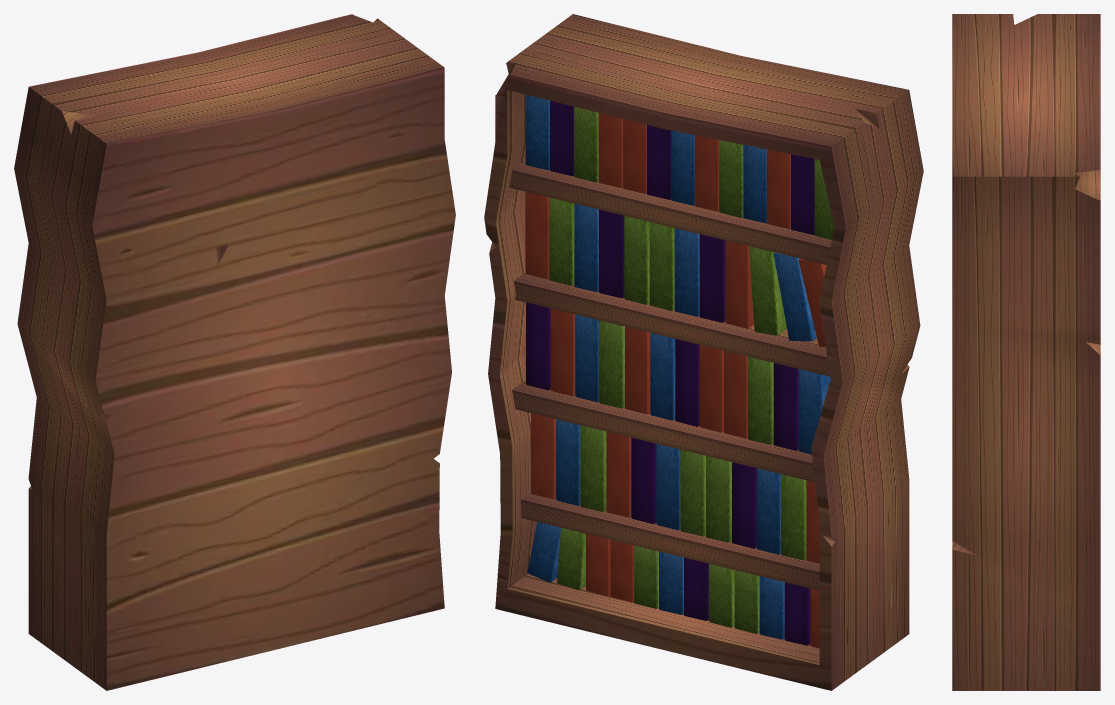
Rendered from BOOKSHELF FILLED WITH BOOKS.FBX.
3 renders of one model, left to right at view 1: azimuth 30°, elevation 25°; view 2: azimuth 150°, elevation 25°; view 3: azimuth 270°, elevation 25°, orthographic. The views are drawn at different scales.
Visible parts, largest first — view 1: Box044; view 2: Box044, Box075, Box074, Box072, Box073, Box063, Box070, Box069, Box071, Box067, Box046, Box066 (+49 smaller); view 3: Box044.
Part boxes in pixels (left/top/right/bottom): Box044: left=14, top=14, right=455, bottom=690; Box044: left=484, top=14, right=923, bottom=690; Box075: left=749, top=246, right=786, bottom=335; Box074: left=773, top=252, right=816, bottom=341; Box072: left=699, top=234, right=725, bottom=322; Box073: left=725, top=240, right=754, bottom=328; Box063: left=580, top=425, right=606, bottom=511; Box070: left=649, top=222, right=674, bottom=311; Box069: left=624, top=216, right=649, bottom=304; Box071: left=674, top=228, right=699, bottom=316; Box067: left=599, top=209, right=624, bottom=298; Box046: left=599, top=320, right=624, bottom=408; Box066: left=549, top=197, right=574, bottom=285; Box044: left=952, top=14, right=1100, bottom=690.
Size of the model in its own units: 53.81 by 77.33 by 20.
